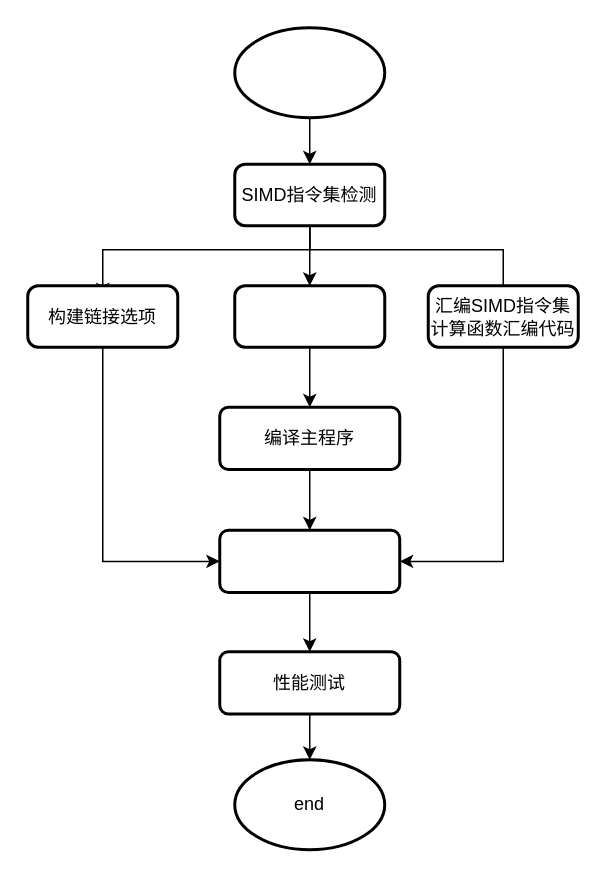
This 605x876 diagram has some shape labels left out. The shapes that lost their labels are listed below. From the top down, each one's centre as x and y in pixels, then its label:
pixel 309 72: start
pixel 309 316: 构建主程序编译选项
pixel 309 560: 链接主程序
